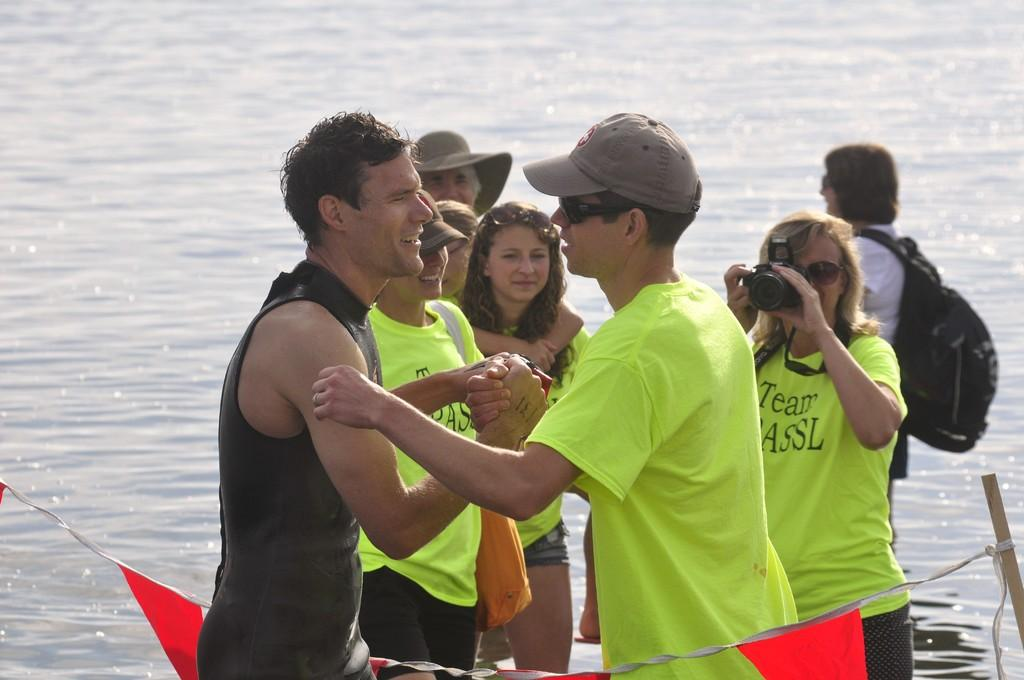Hat: (523, 110, 702, 218), (408, 132, 512, 217)
